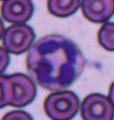N: (26, 34, 86, 90)
